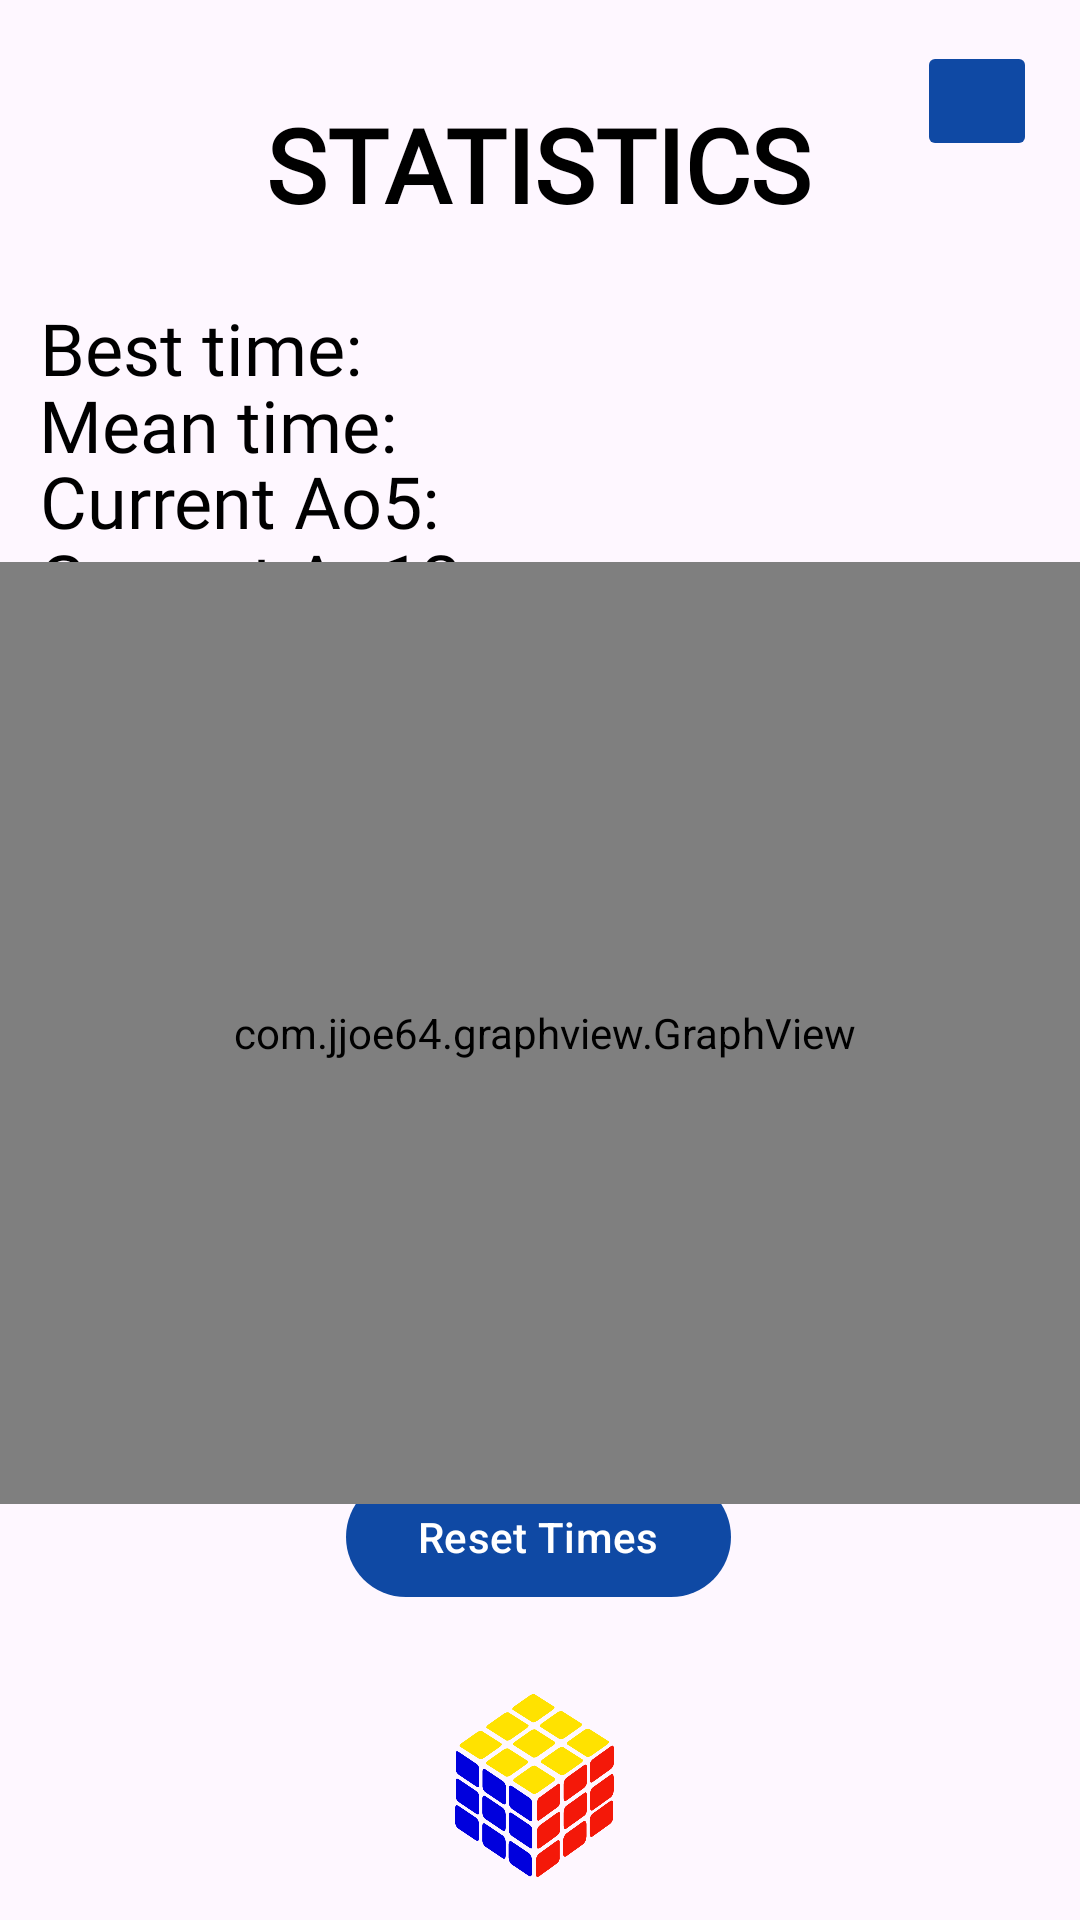

Locate icon controls on the screen. Image size 1080px×1920px, boxes as (x1, y1, x2, y2).
cube: (455, 1694, 614, 1877)
